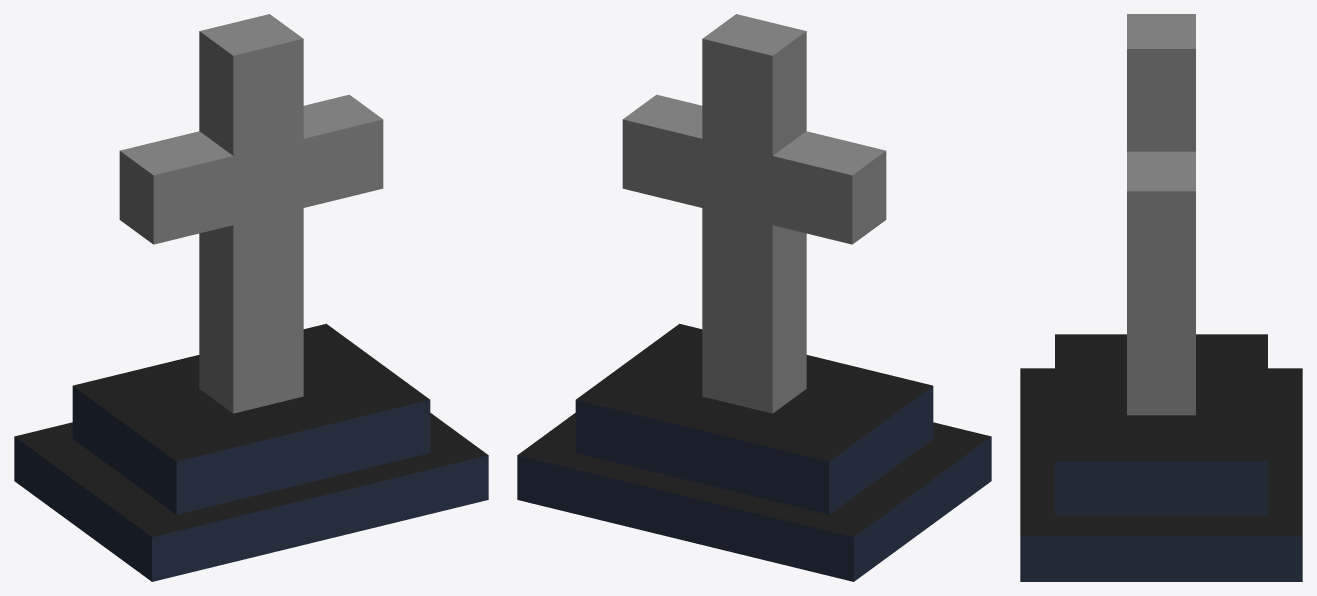
The model's file is Grave_4_MY.fbx.
3 views of the same model, side by side, from view 1: azimuth 30°, elevation 25°; view 2: azimuth 150°, elevation 25°; view 3: azimuth 270°, elevation 25° (orthographic). The views are drawn at different scales.
Parts seen in each view (by area): view 1: Cube; view 2: Cube; view 3: Cube.
Boxes of the visible parts, left/top/right/bottom form: Cube: left=14, top=14, right=488, bottom=581; Cube: left=517, top=14, right=991, bottom=581; Cube: left=1020, top=14, right=1302, bottom=581.
Bounding box in the file's own units: 93.72 × 121 × 66.46.
